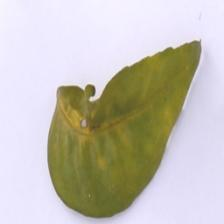greening: (28, 34, 208, 221)
